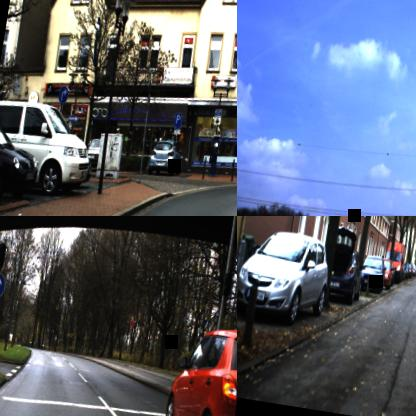go right or straight: (56, 84, 69, 104)
go straight: (0, 271, 6, 299)
